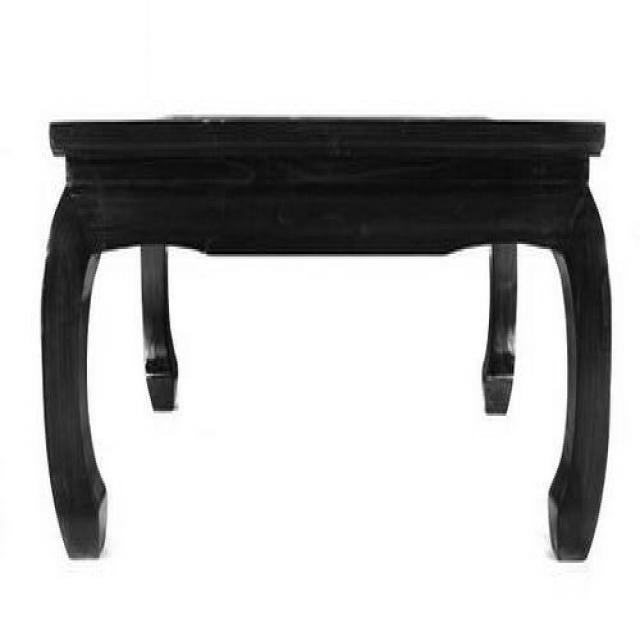table: (38, 111, 632, 562)
